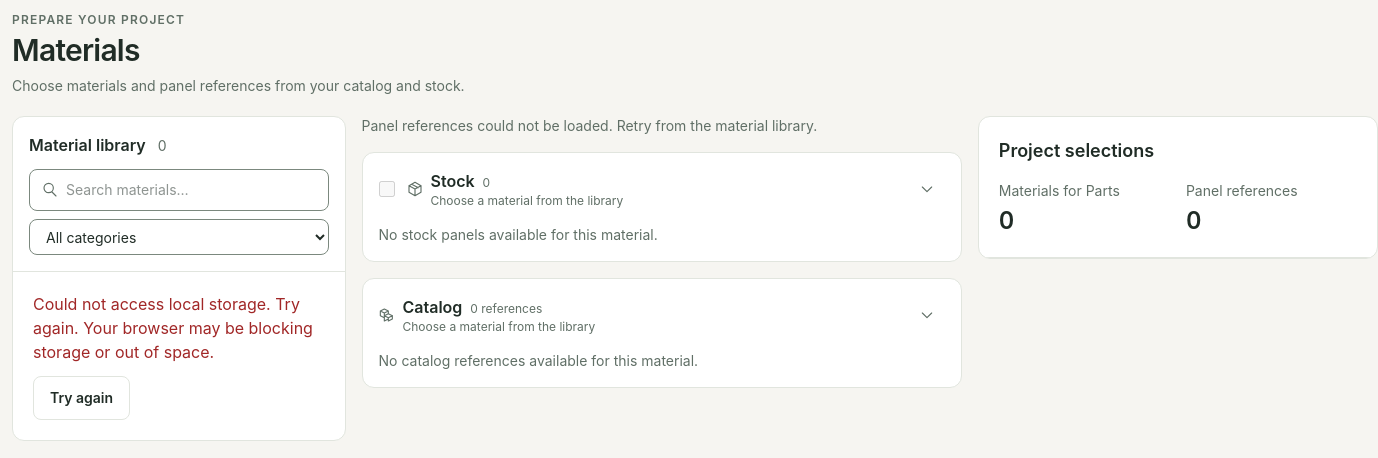
MaterialsView › shows read errors and supports retry without showing an empty catalog
This screenshot has width=1378, height=458.
Check: the 2nd message shows "Could not access local storage", box [33,294,313,362]
Step 1. Click the button "Try again" → point(82, 398), box [33,376,130,420]
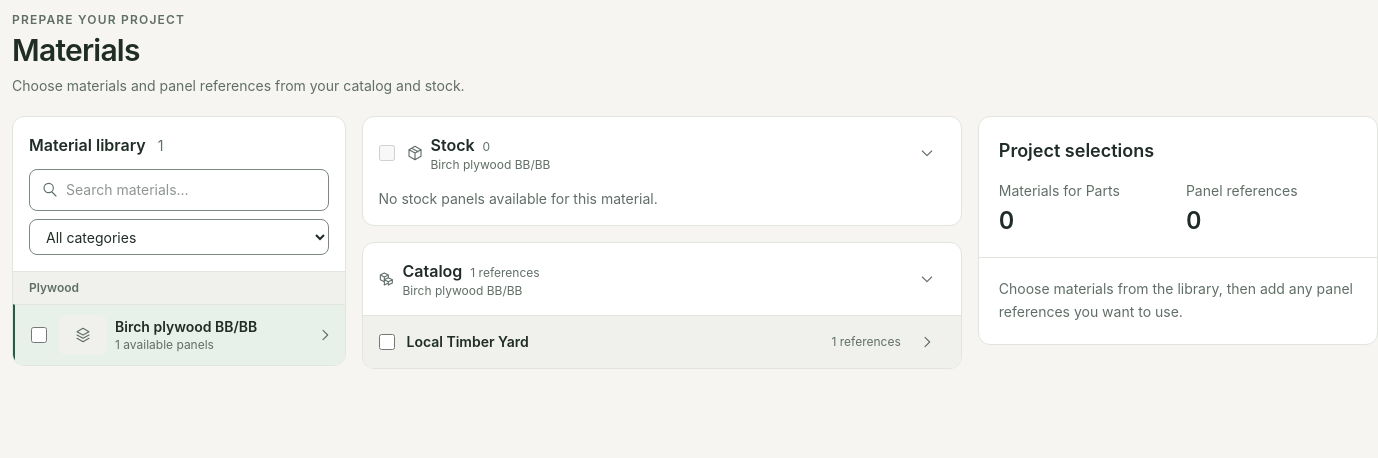
Check: the element that starts with "Material library" shows "Birch plywood BB/BB", box [59,313,332,357]
